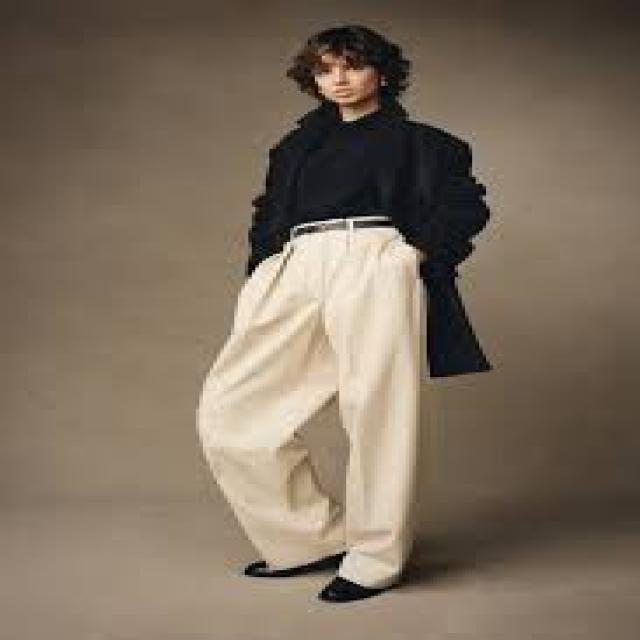pants: (194, 215, 434, 588)
